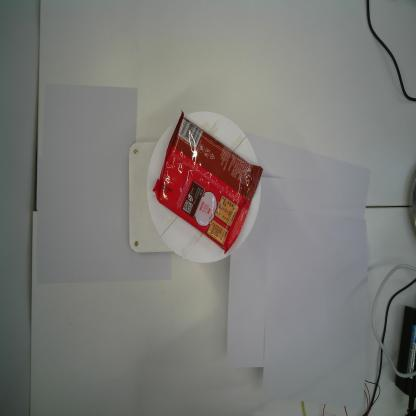Dessert: (152, 111, 264, 254)
